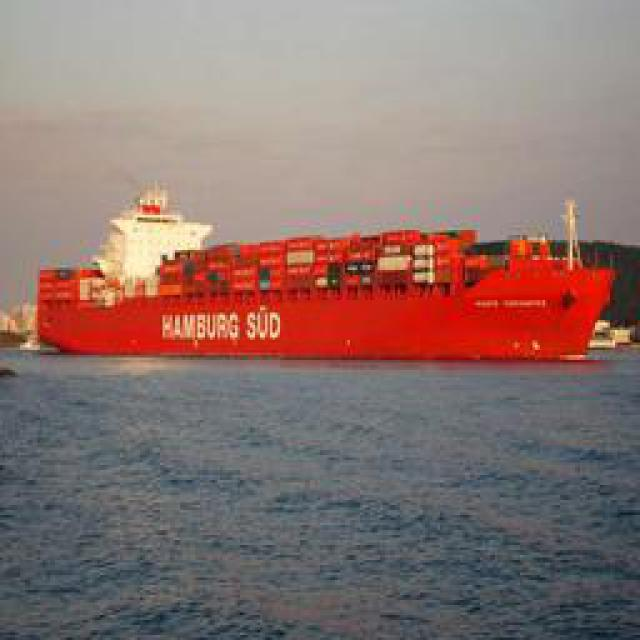Ship: (25, 192, 623, 365)
